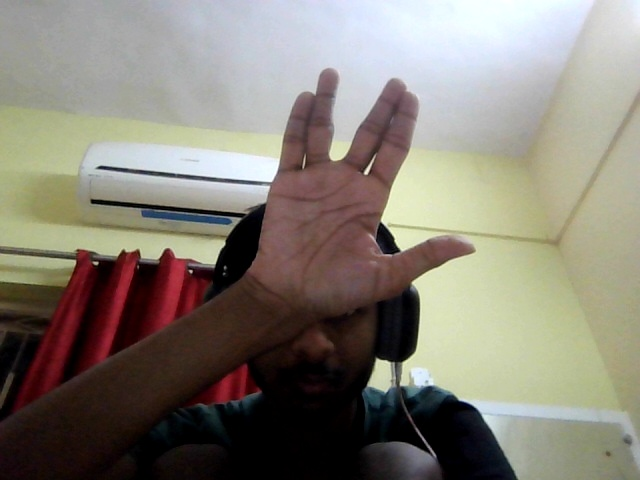LiveLong: (260, 63, 478, 311)
